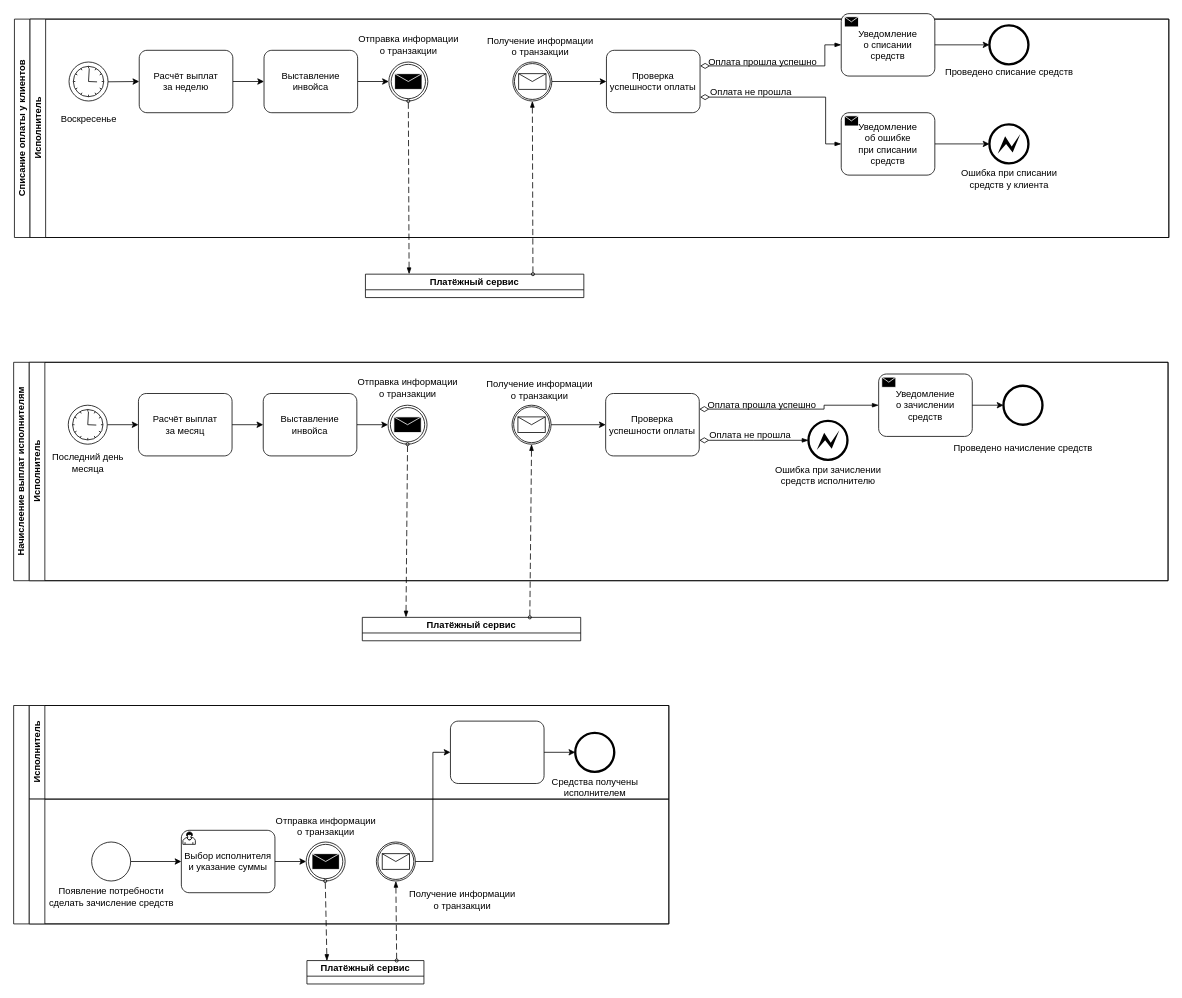
This 1182x998 diagram has some shape labels left out. Here are the shapes that lost their labels. From the top down, the box of each, then its label:
(450, 720, 544, 784): Получение средств
(13, 705, 669, 924): Начисление средств исполнителю
(28, 798, 669, 924): Менеджер
